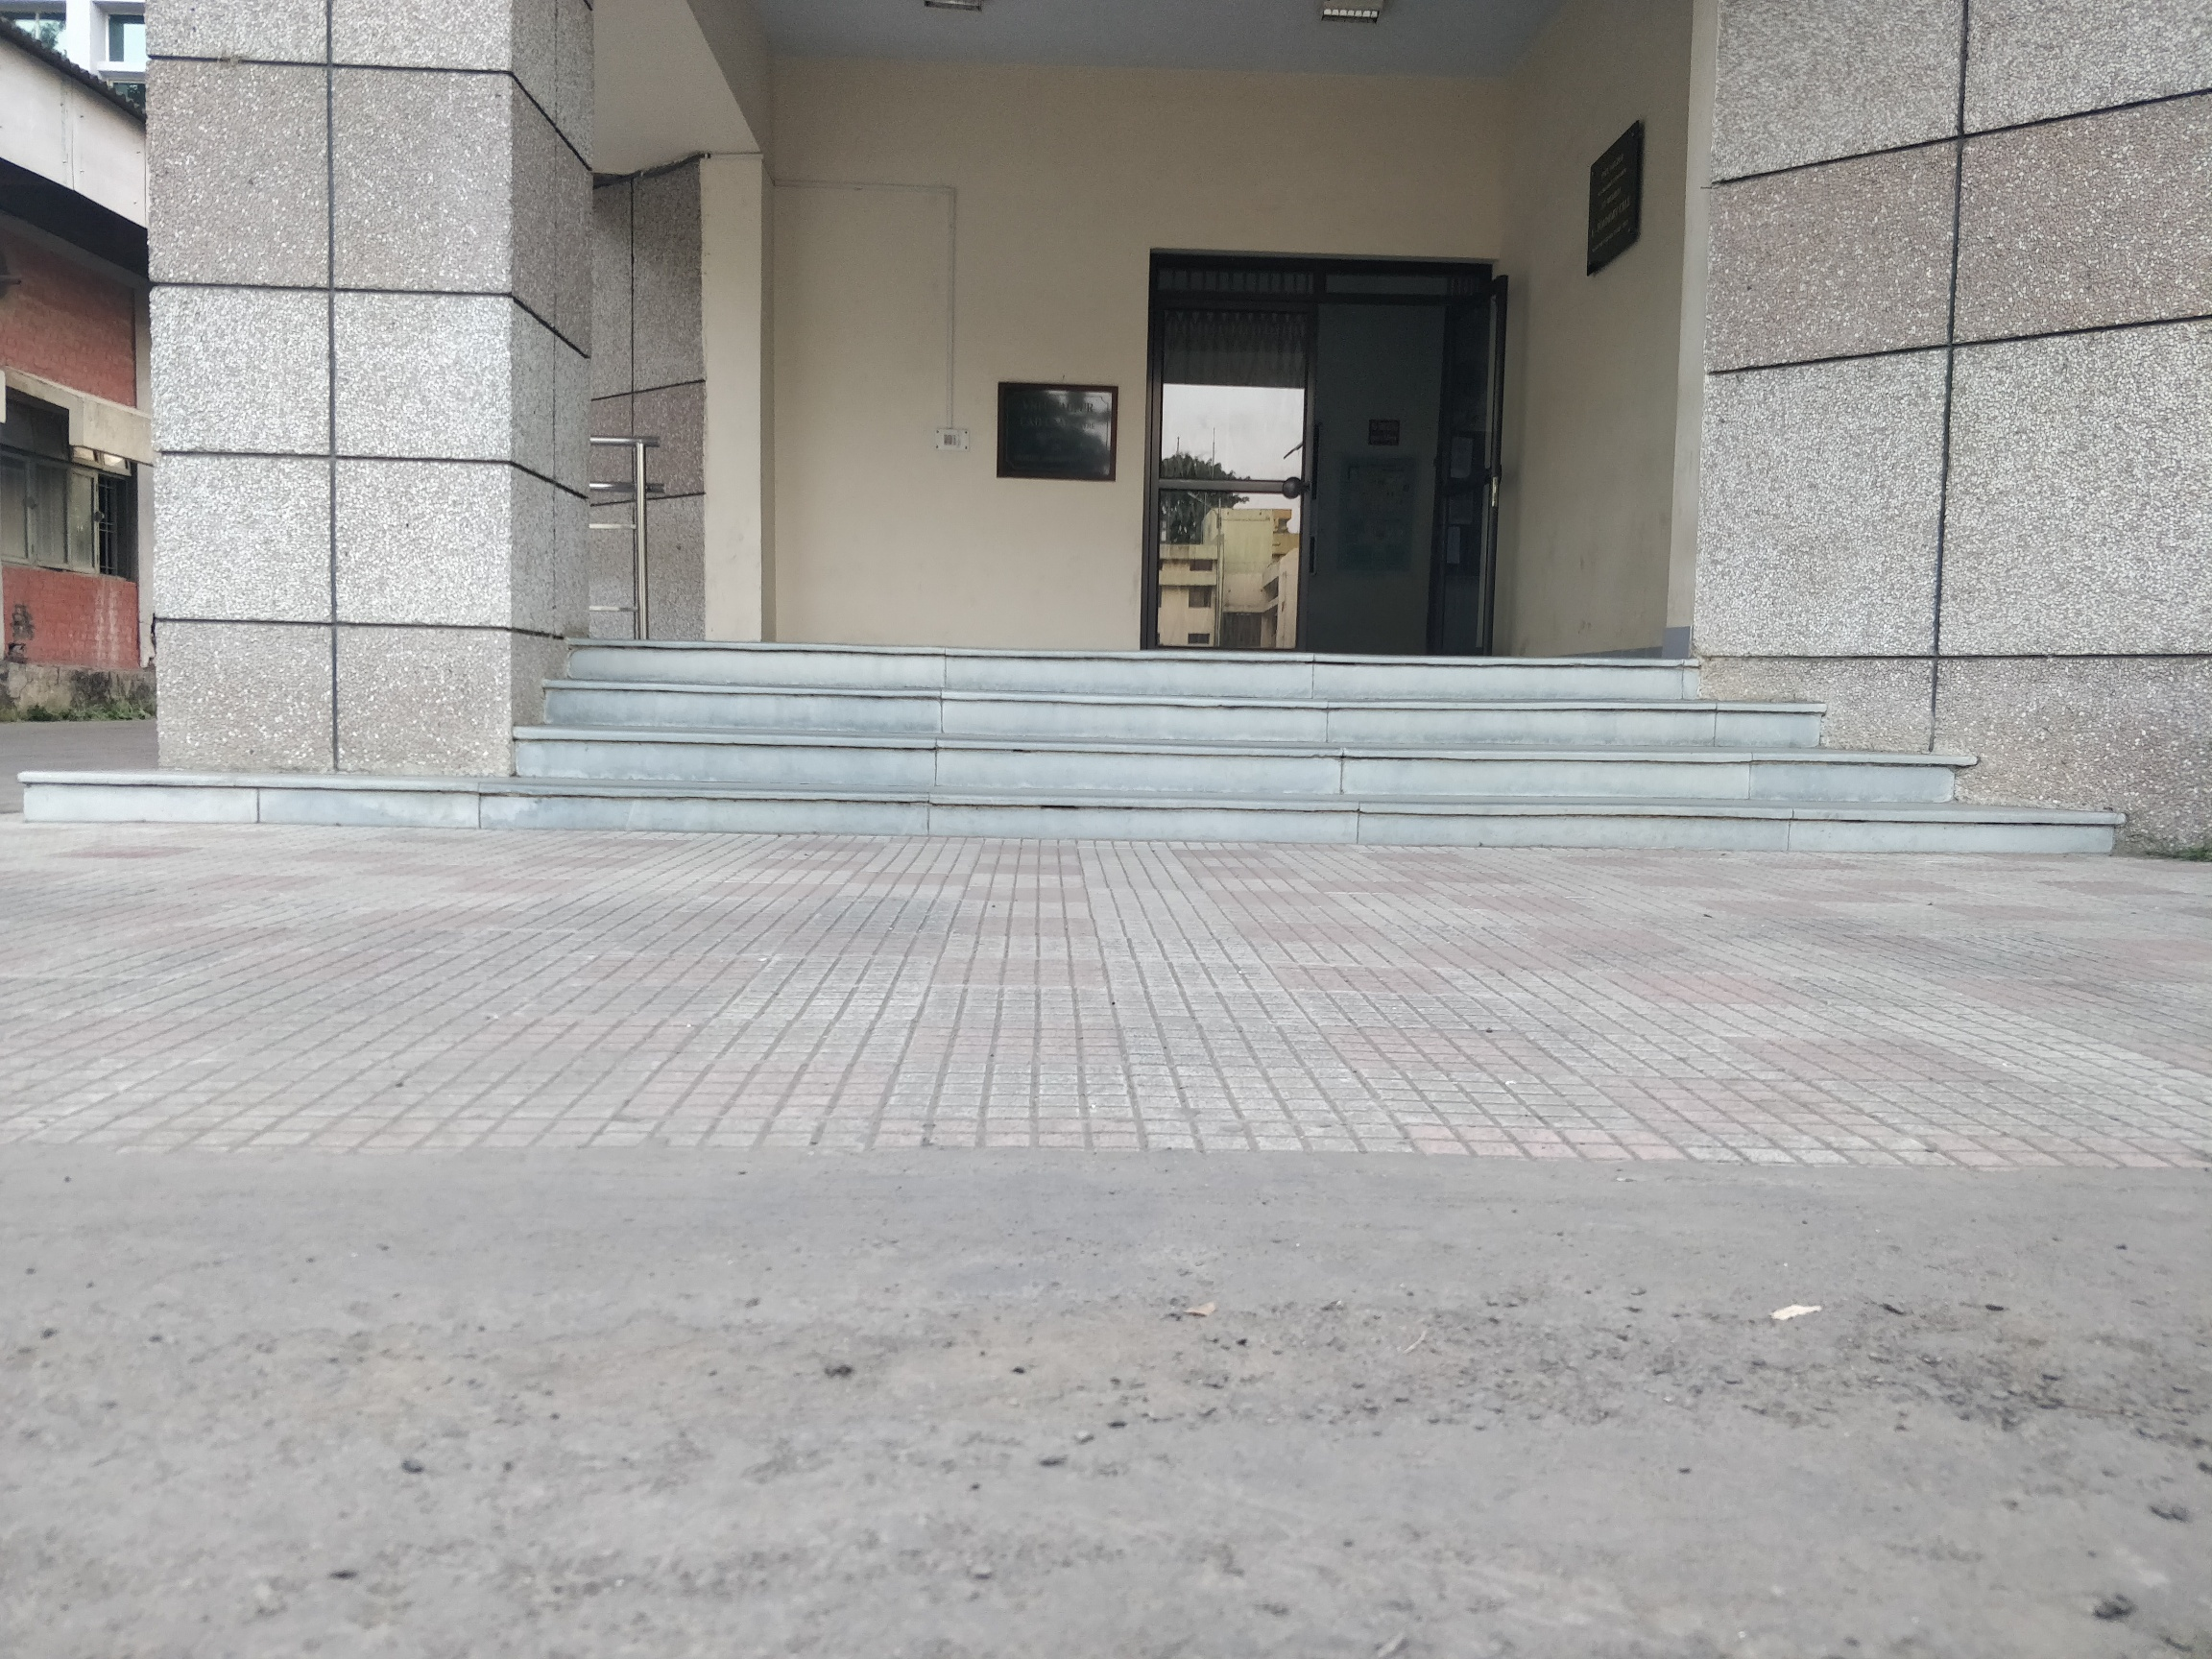stairs_up: (514, 631, 1937, 861)
